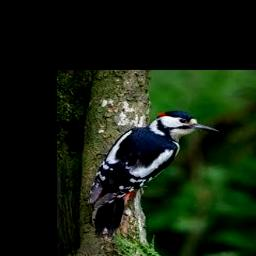Woodpecker: (87, 110, 219, 237)
